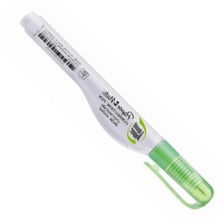correction_fluid: (18, 8, 214, 214)
